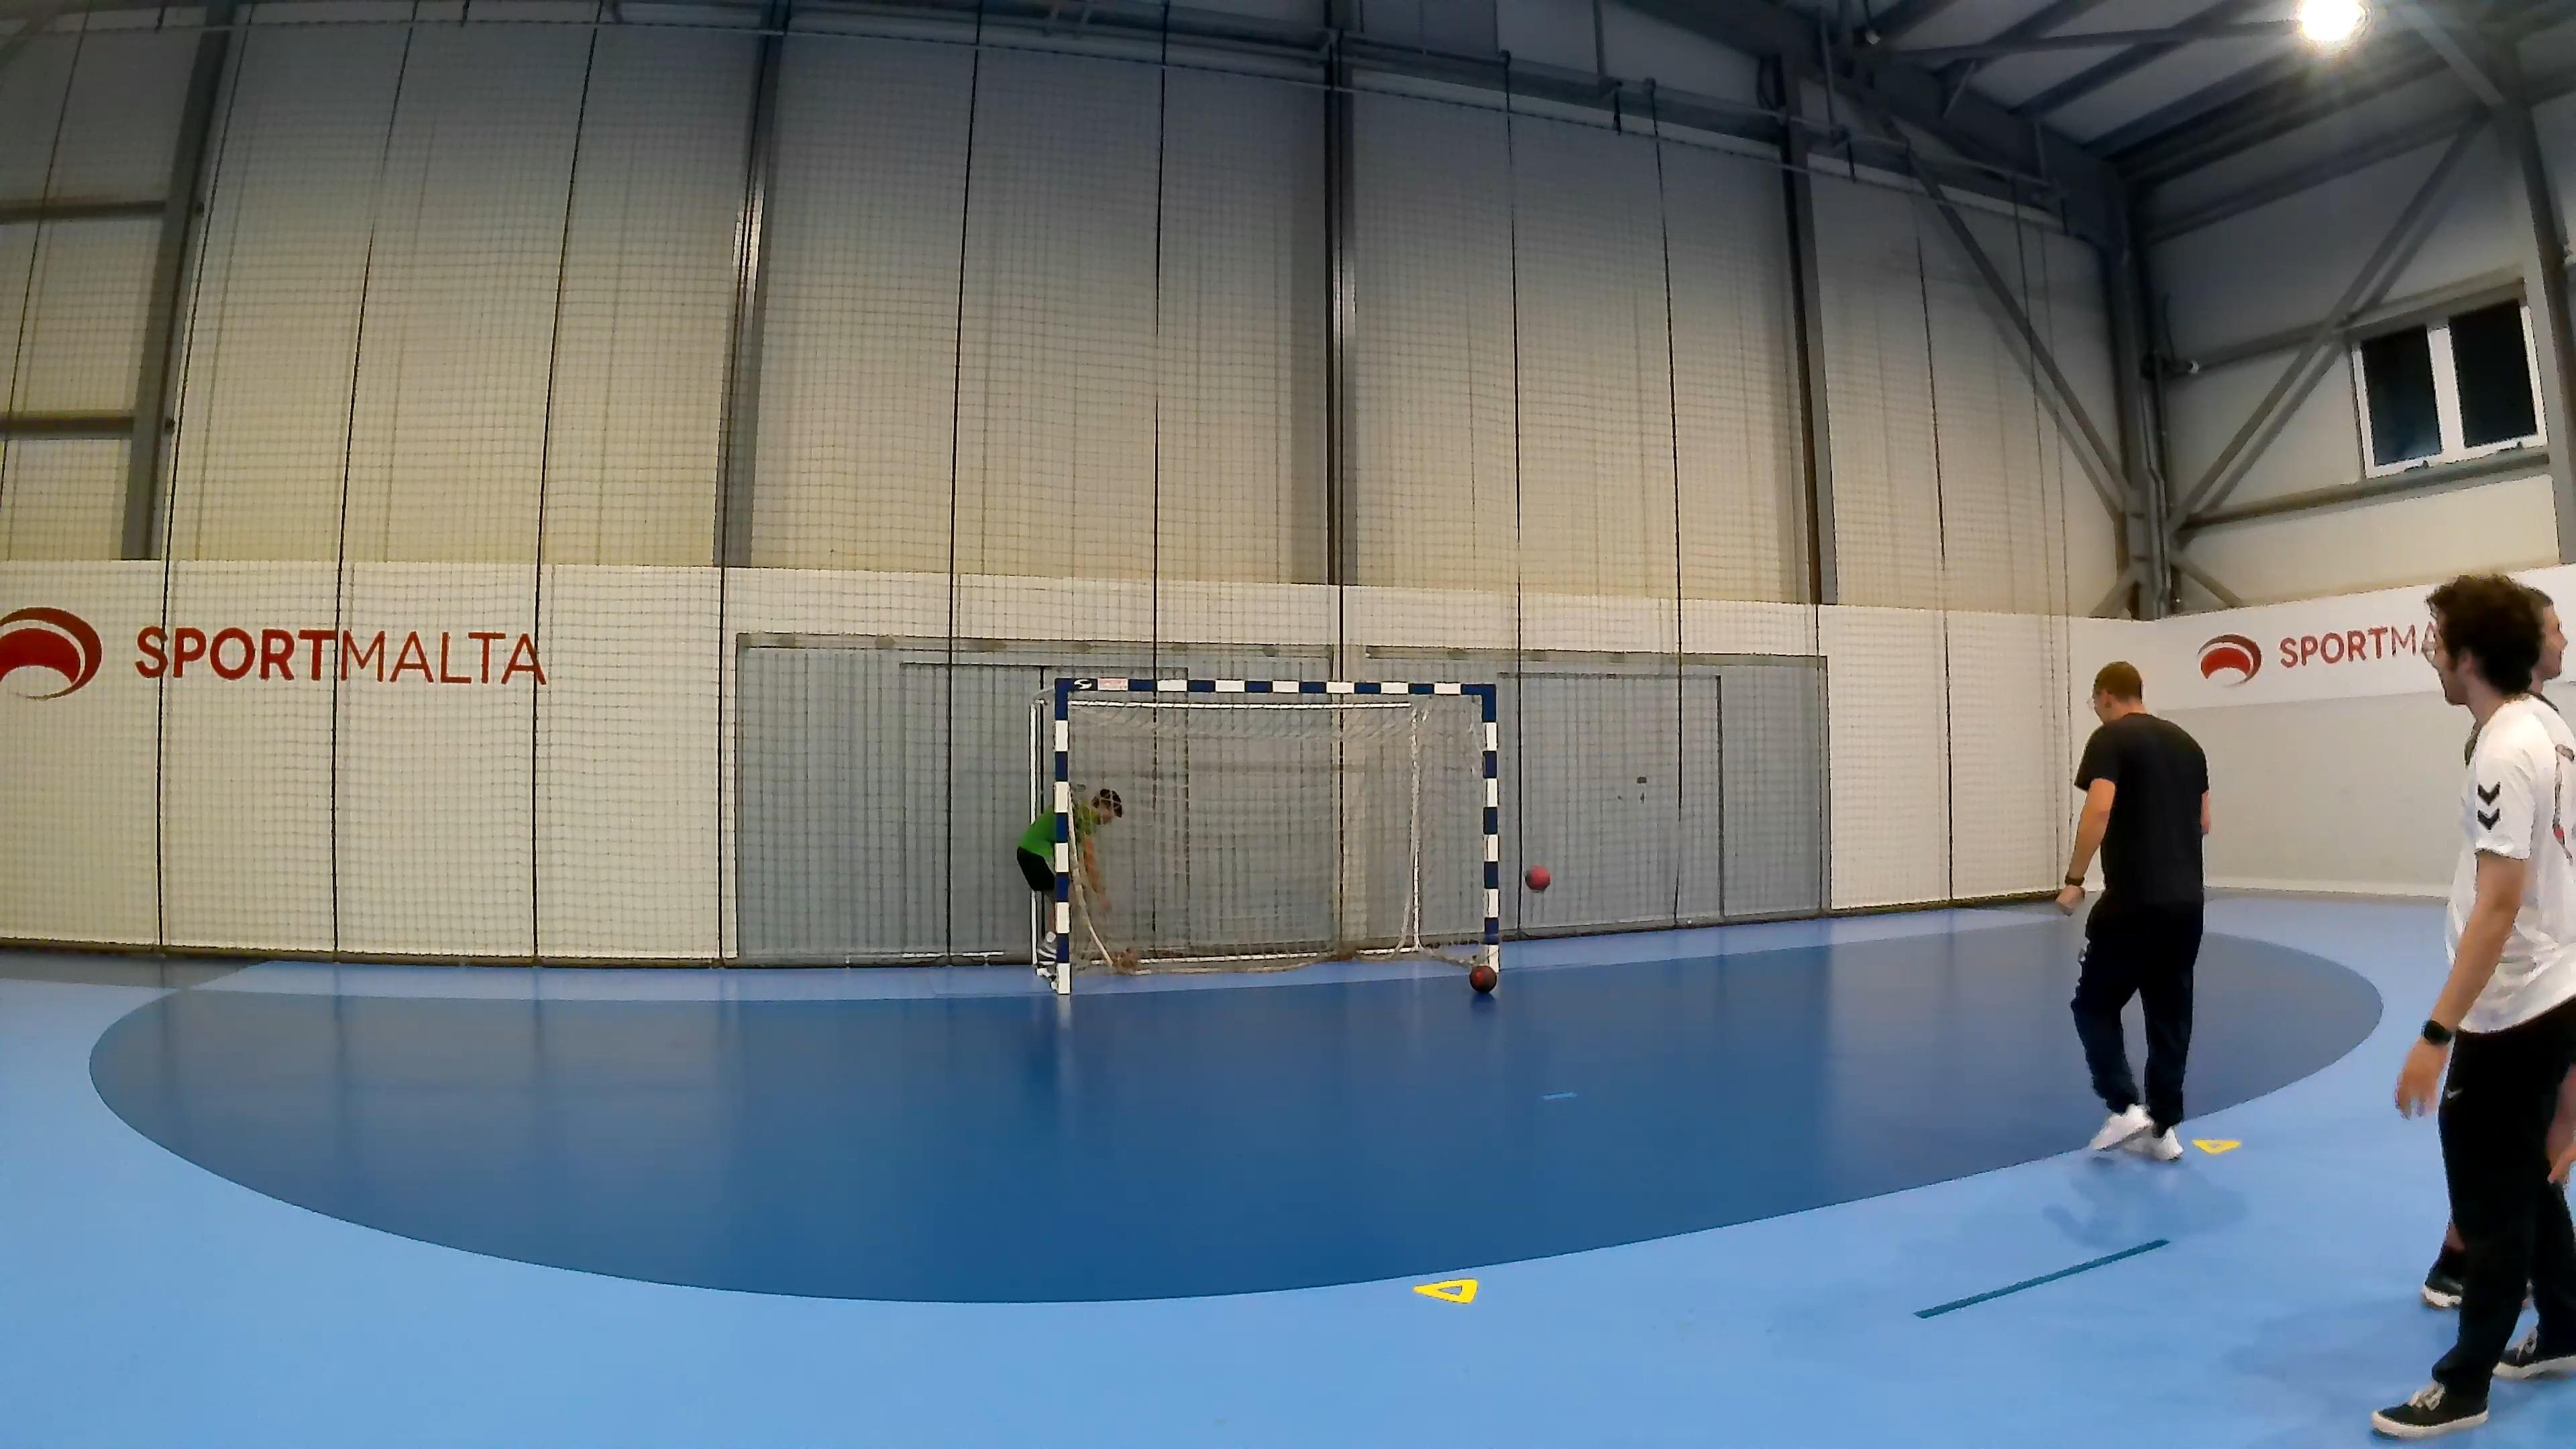handball: (1468, 962, 1497, 993), (1523, 863, 1550, 890)
